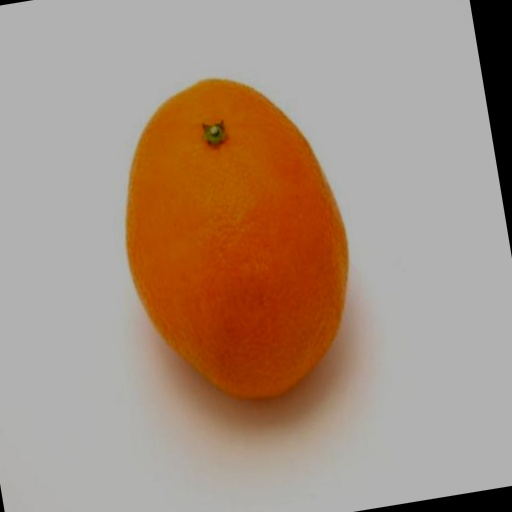fruit: (126, 80, 348, 397)
